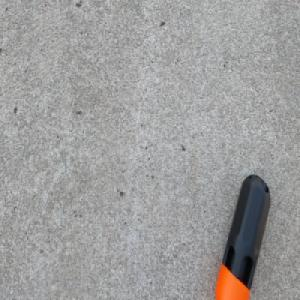PlasticPart: (214, 173, 272, 300)
